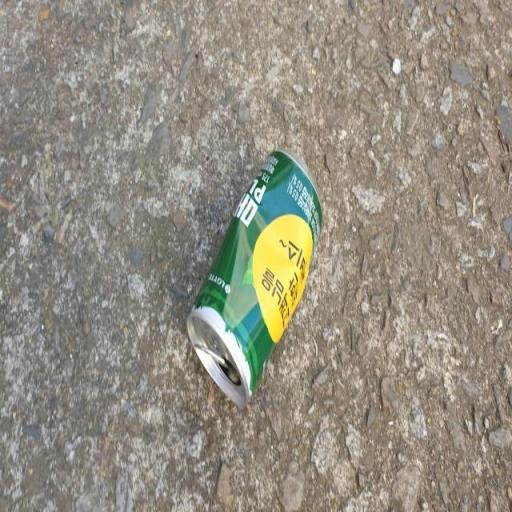metal: (172, 100, 368, 418)
